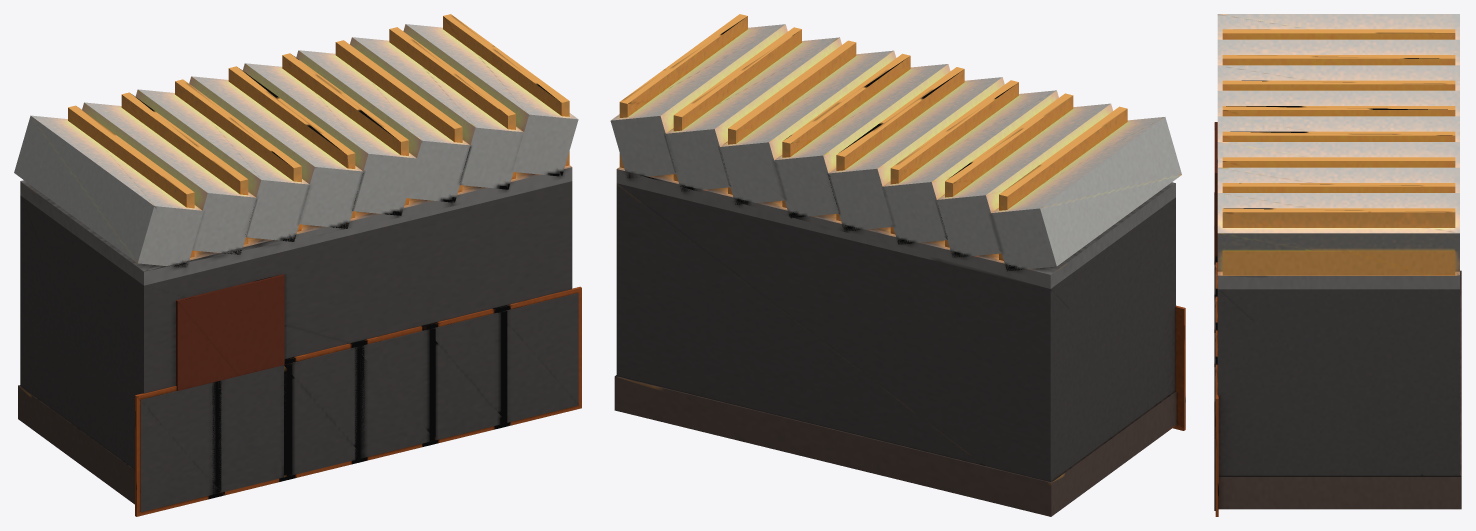
File: processing_hall_2_kiln.glb
3 renders of one model, left to right at view 1: azimuth 30°, elevation 25°; view 2: azimuth 150°, elevation 25°; view 3: azimuth 270°, elevation 25°, orthographic. The views are drawn at different scales.
Visible parts, largest first — view 1: Cube; view 2: Cube; view 3: Cube.
Boxes of the visible parts, <box> form: Cube: <box>14,14,581,516</box>; Cube: <box>610,14,1185,516</box>; Cube: <box>1214,14,1461,516</box>.
Size of the model in its own units: 16.63 by 10.95 by 8.16.
Materials: 1 (1 with a texture image).
